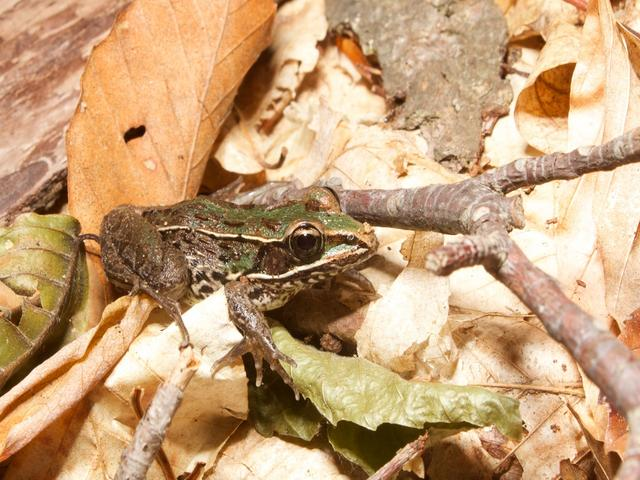frog: (56, 143, 463, 353)
